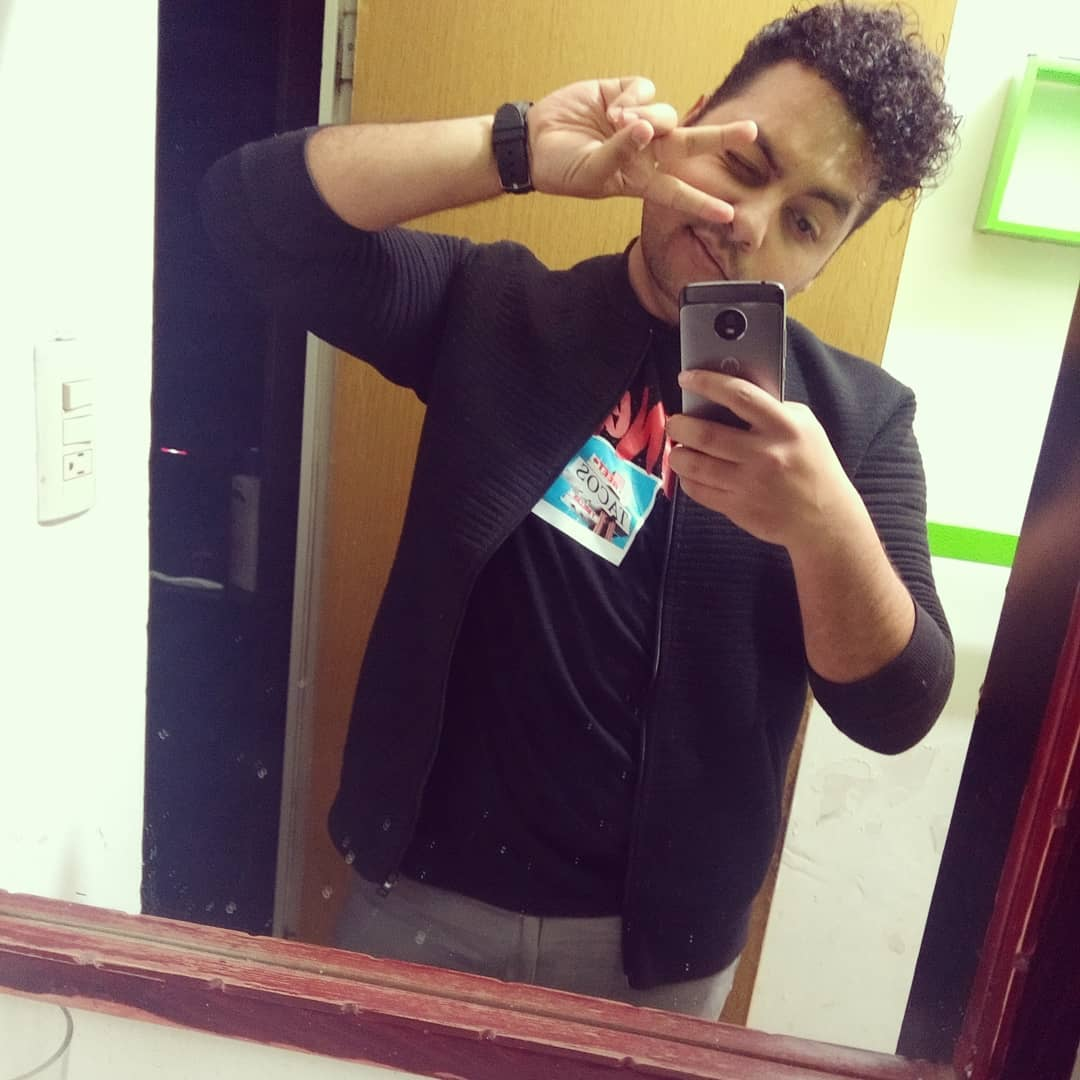Yoshi: (420, 14, 1003, 742)
